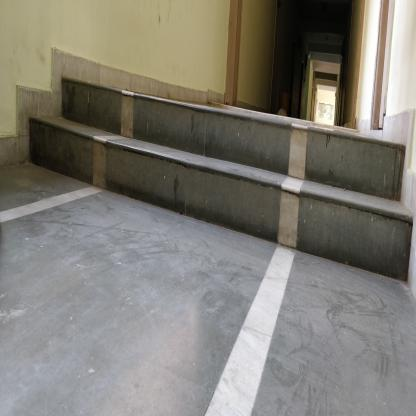stairs: (68, 79, 368, 247)
